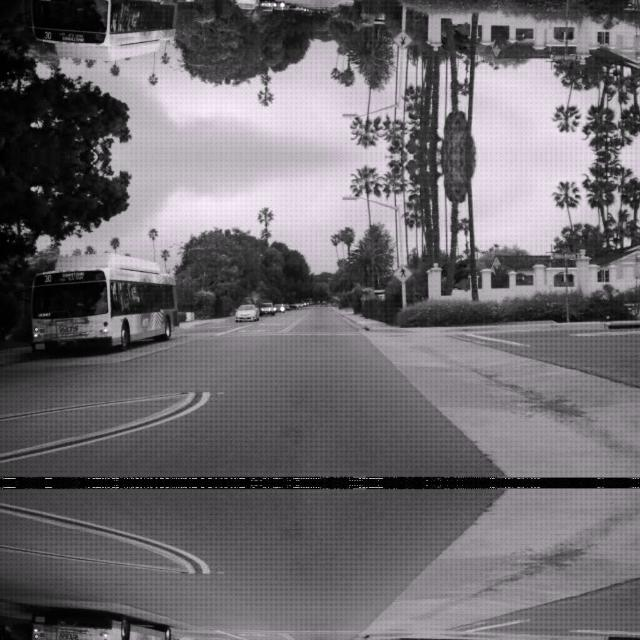pedestrianCrossing: (392, 262, 412, 282), (392, 30, 412, 50)
